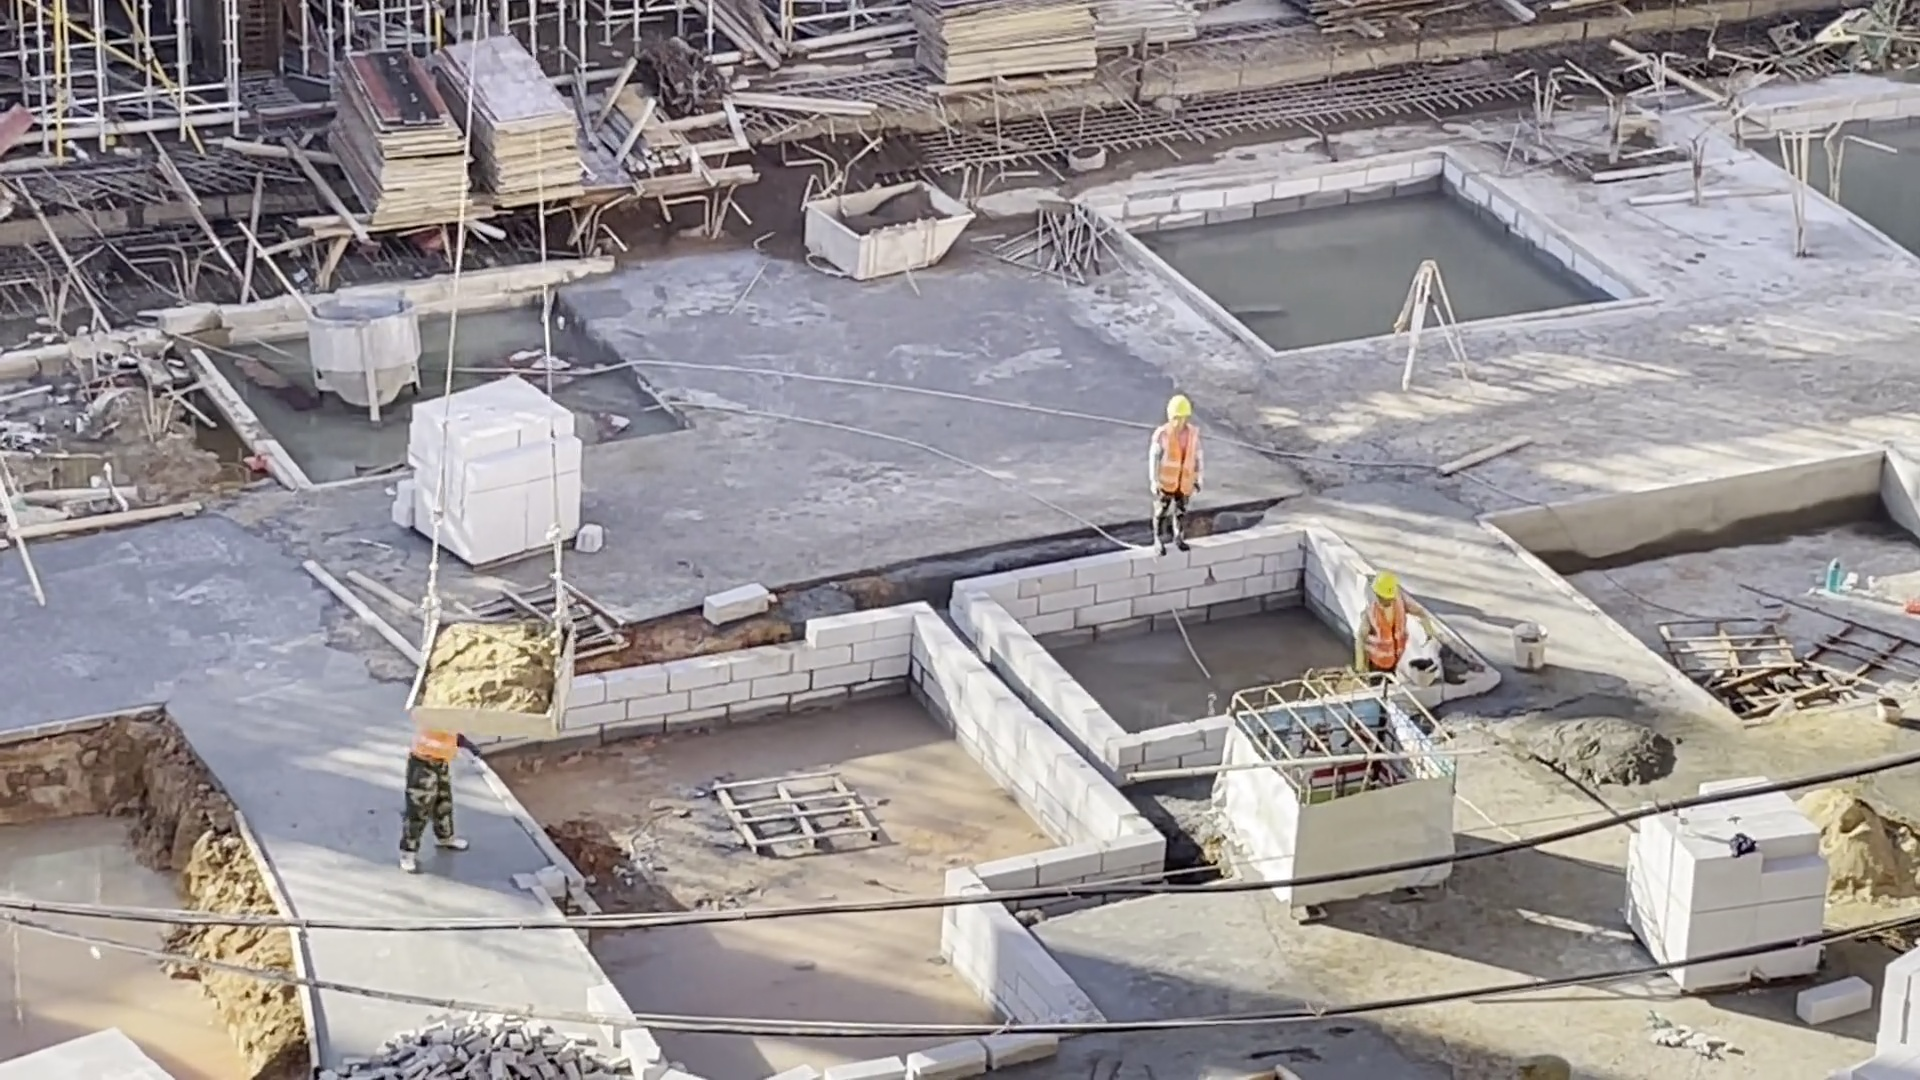board: (329, 46, 481, 237), (441, 32, 593, 220), (904, 2, 1101, 90)
brick: (391, 378, 583, 564), (1619, 827, 1830, 941)
helmet: (1368, 573, 1401, 601), (1164, 390, 1191, 419)
hopper: (399, 616, 581, 752), (808, 180, 973, 282), (310, 294, 422, 427)
person: (396, 732, 489, 880), (1147, 392, 1208, 554), (1354, 575, 1436, 679)
vest: (1153, 424, 1202, 497), (1362, 599, 1410, 669)
